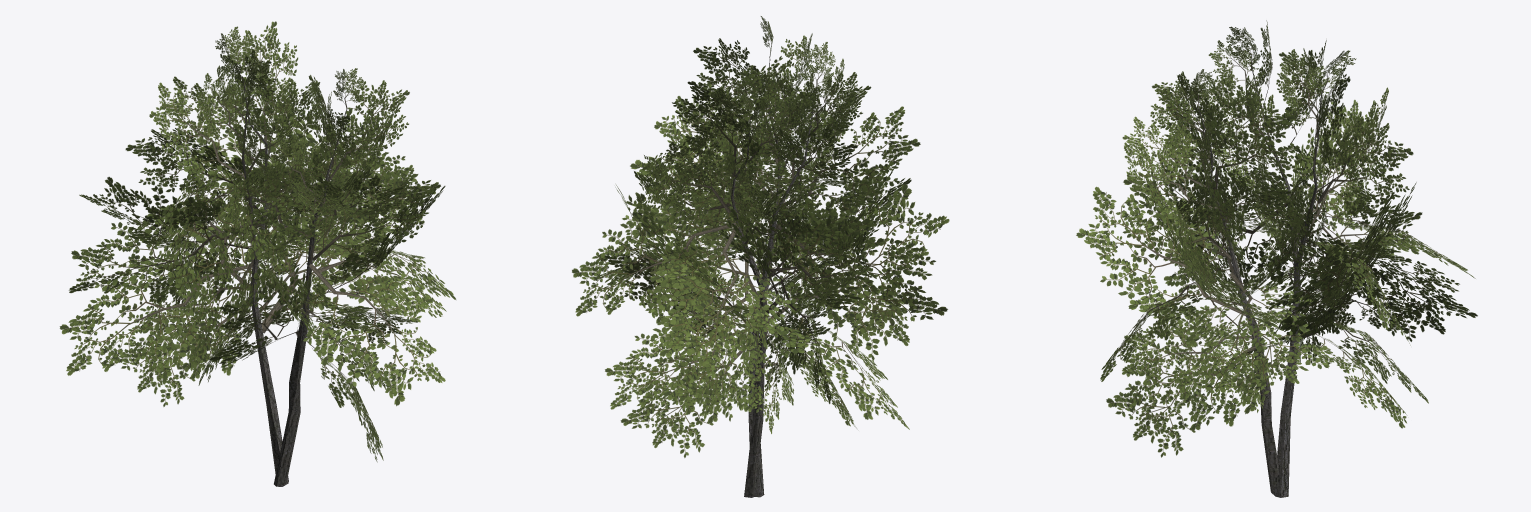
Rendered from treeVariant0.gltf.
3 views of the same model, side by side, from view 1: azimuth 30°, elevation 25°; view 2: azimuth 150°, elevation 25°; view 3: azimuth 270°, elevation 25° (orthographic).
Parts seen in each view (by area): view 1: Tree-01-2; view 2: Tree-01-2; view 3: Tree-01-2.
Part boxes in pixels (x1,y1,x2,y2): Tree-01-2: (59, 21, 456, 486); Tree-01-2: (572, 16, 949, 497); Tree-01-2: (1076, 20, 1477, 497).
Bounding box in the file's own units: 6.55 × 7.5 × 7.32.
3 materials, 3 textured.
